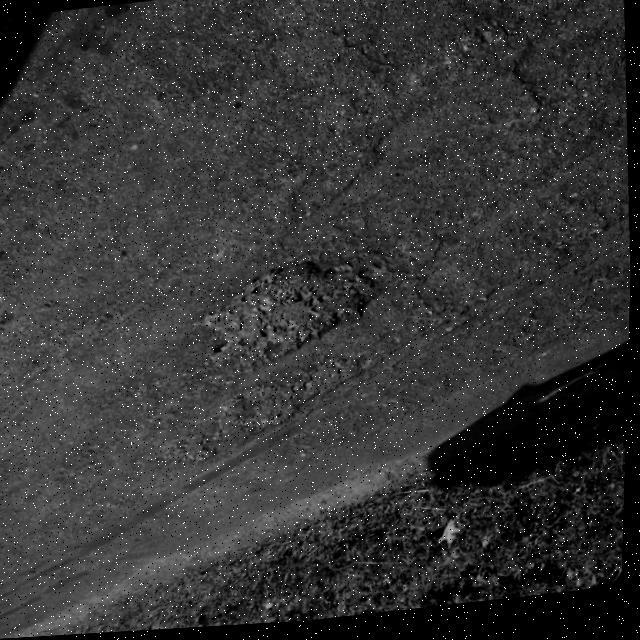pothole: (185, 244, 398, 386)
